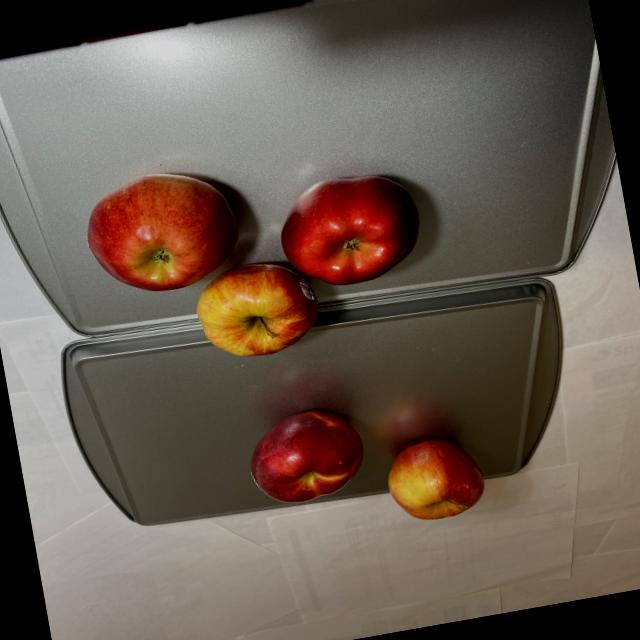apple: (74, 130, 442, 384), (237, 368, 498, 549)
